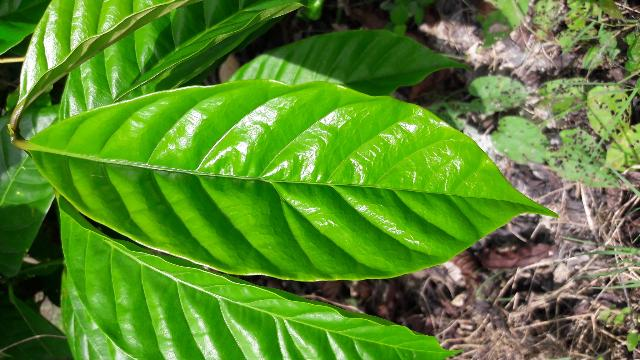healthy: (26, 79, 561, 279)
